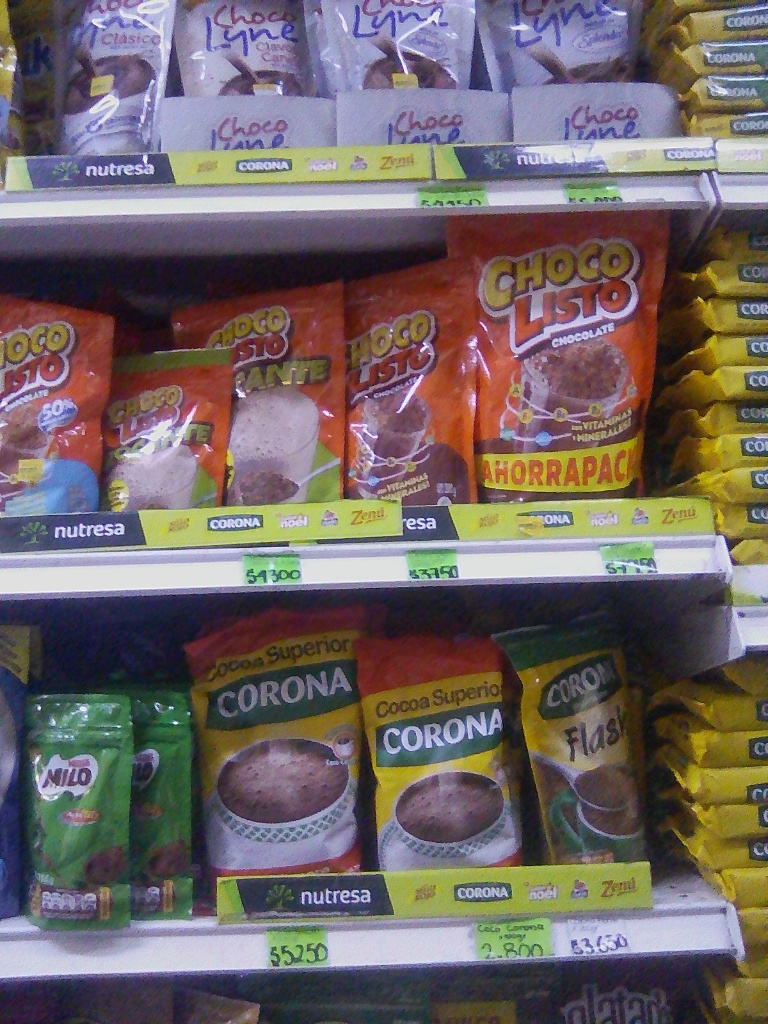COL0170102DYP10000: (105, 326, 226, 511)
COL0170102DYP25000: (194, 286, 343, 501)
COL0170103DYP20000: (321, 264, 481, 508)
COL0170103DYP44000: (453, 219, 674, 499)
COL0170104DYP20000: (2, 289, 104, 511)
COL0170203DYP10000: (18, 695, 128, 938)
